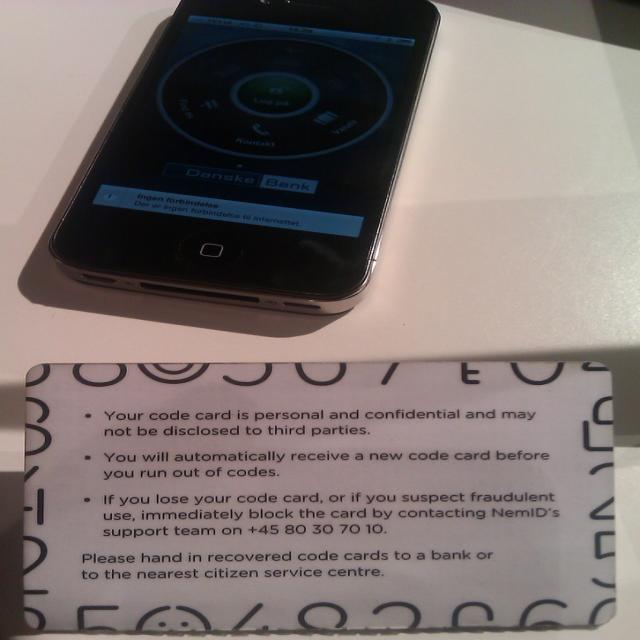Mobile-phone: (13, 3, 436, 314)
